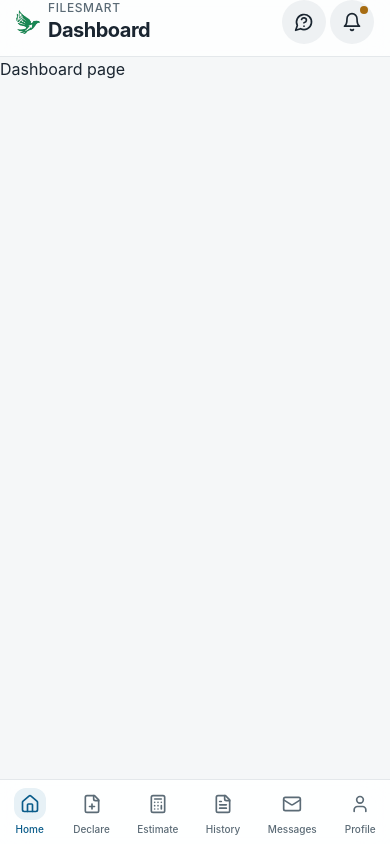
SupportChat surface › mounts support through AppLayout and keeps Messages navigation
Click the link "Messages" at (292, 814), box [268,794,317,834]
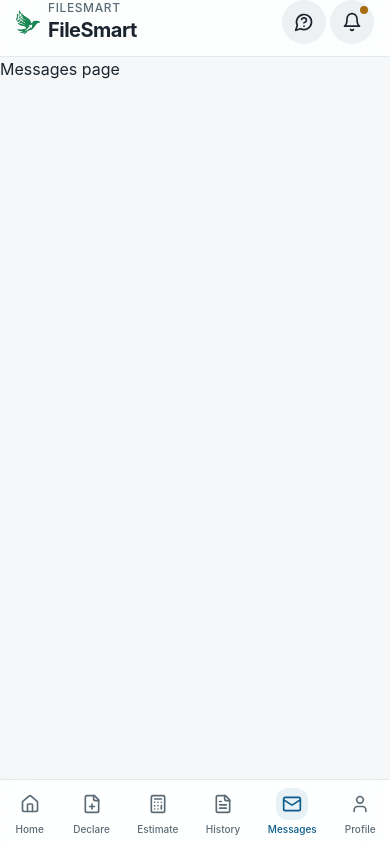
Result: the text "Messages page" is shown at [0,59,120,79]
Click the button named "Open tax support assistant" at (304, 22), box [282,0,326,44]
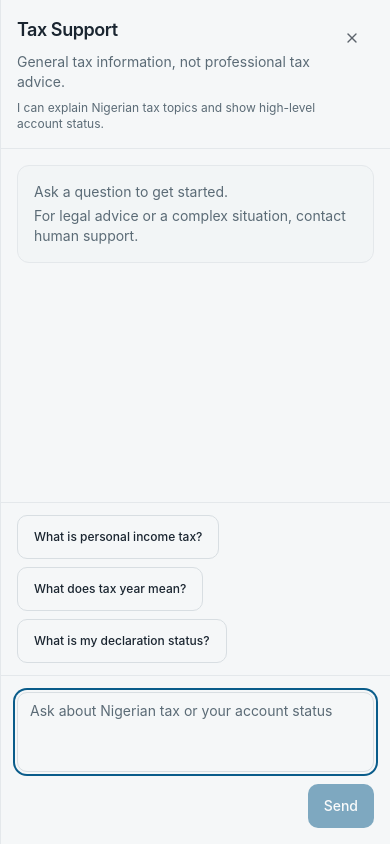
Expected: the link "Messages" is shown, [268,788,317,834]
Result: the dialog "Tax Support" is shown
